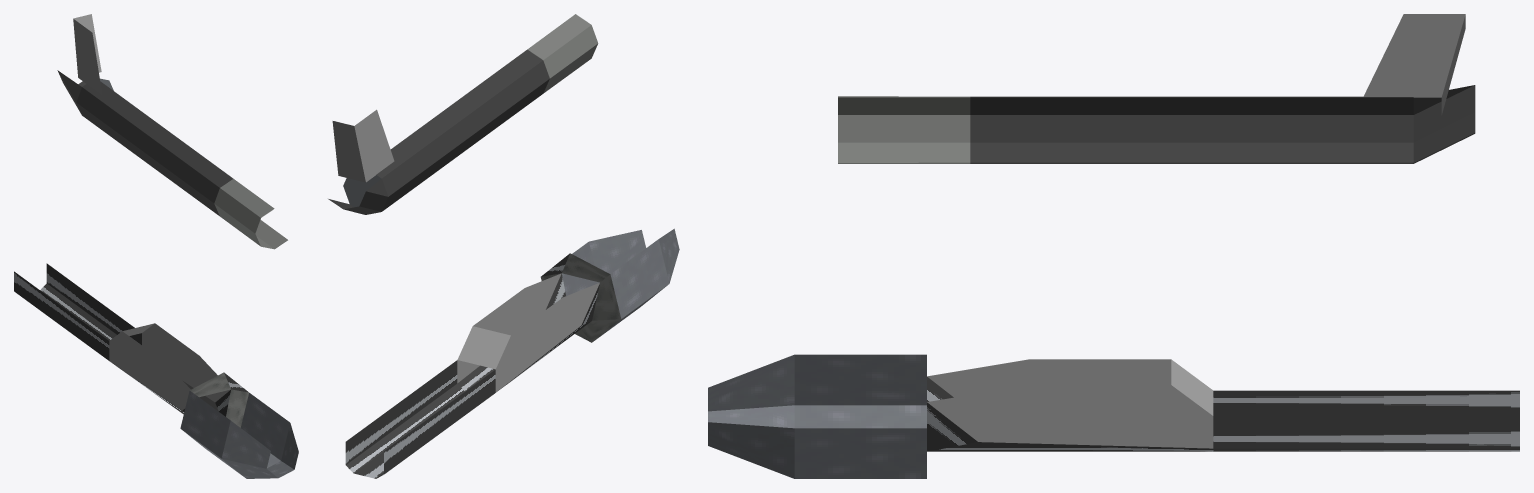
Rendered from FLAME.obj.
The picture shows the model from 3 angles, left to right: view 1: azimuth 30°, elevation 25°; view 2: azimuth 150°, elevation 25°; view 3: azimuth 270°, elevation 25°; orthographic projection. The views are drawn at different scales.
Parts seen in each view (by area): view 1: flamer_Cube.006, SHOTGUN_pistol_q2_SS_v1_0000_submodel00_mesh0000.003; view 2: flamer_Cube.006, SHOTGUN_pistol_q2_SS_v1_0000_submodel00_mesh0000.003; view 3: flamer_Cube.006, SHOTGUN_pistol_q2_SS_v1_0000_submodel00_mesh0000.003.
Part boxes in pixels (x1=…): flamer_Cube.006: x1=14, y1=263, x2=298, y2=478; SHOTGUN_pistol_q2_SS_v1_0000_submodel00_mesh0000.003: x1=57, y1=14, x2=287, y2=249; flamer_Cube.006: x1=345, y1=228, x2=679, y2=478; SHOTGUN_pistol_q2_SS_v1_0000_submodel00_mesh0000.003: x1=328, y1=14, x2=598, y2=214; flamer_Cube.006: x1=708, y1=354, x2=1519, y2=478; SHOTGUN_pistol_q2_SS_v1_0000_submodel00_mesh0000.003: x1=838, y1=14, x2=1475, y2=163.
Bounding box in the file's own units: 1.47 × 4.89 × 7.48.
